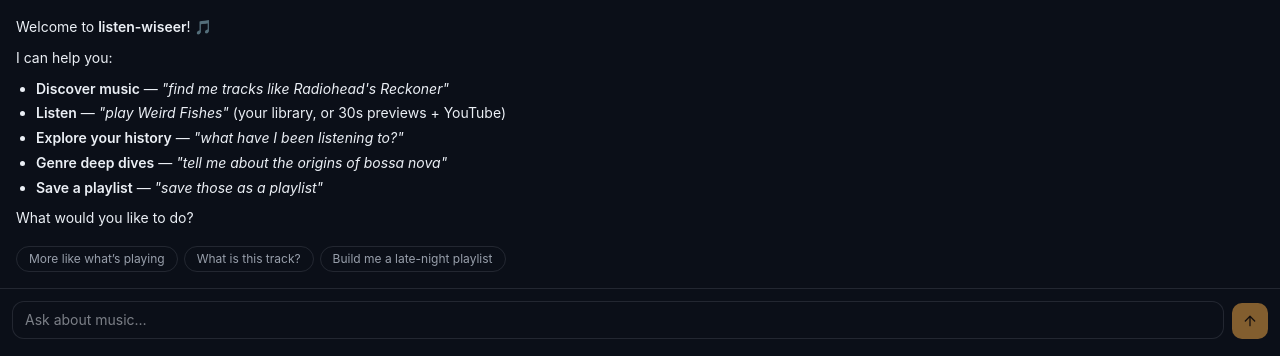
Test: AssistantChat › shows an error event as an alert and re-enables input
This screenshot has width=1280, height=356.
Type "hello" into the text box named "Message the assistant" at (618, 320), box [12,301,1224,339]
Then press Enter
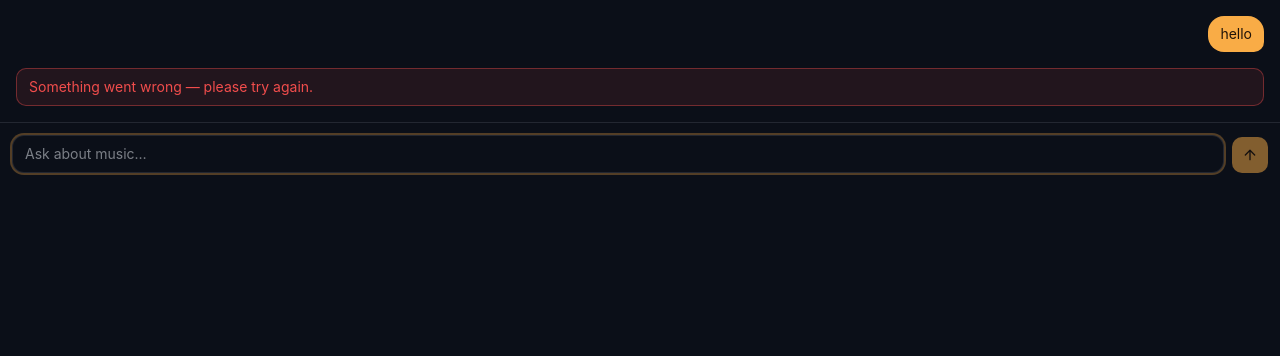
Expected: the message shows "Something went wrong", [29,78,313,95]
